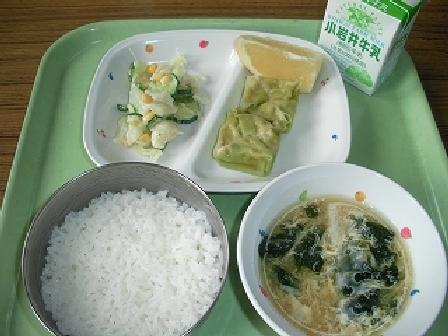Citrus: (234, 26, 321, 90)
Milk: (321, 0, 421, 80)
Rice: (27, 170, 221, 334)
Salad: (118, 51, 212, 148)
Soups: (245, 168, 438, 334)
manty: (225, 73, 300, 175)
